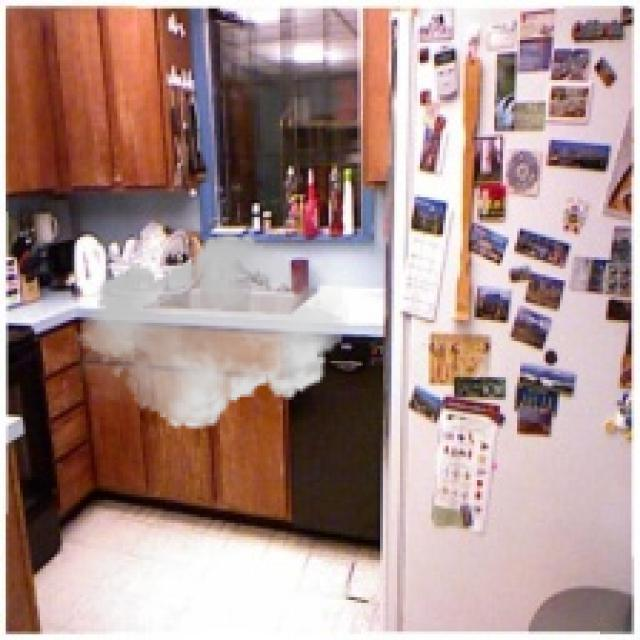Smoke: (74, 226, 349, 437)
